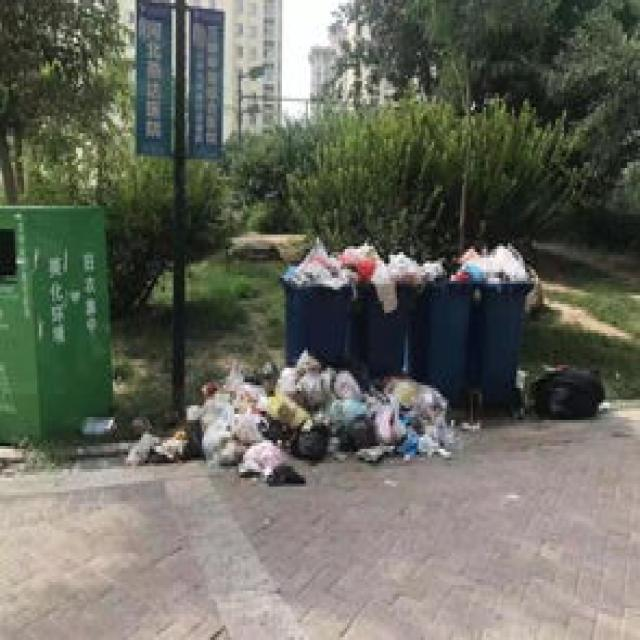garbage: (122, 344, 480, 486), (525, 359, 607, 417)
overflow: (468, 244, 532, 406), (406, 255, 468, 402), (280, 232, 347, 362), (347, 238, 404, 374)
